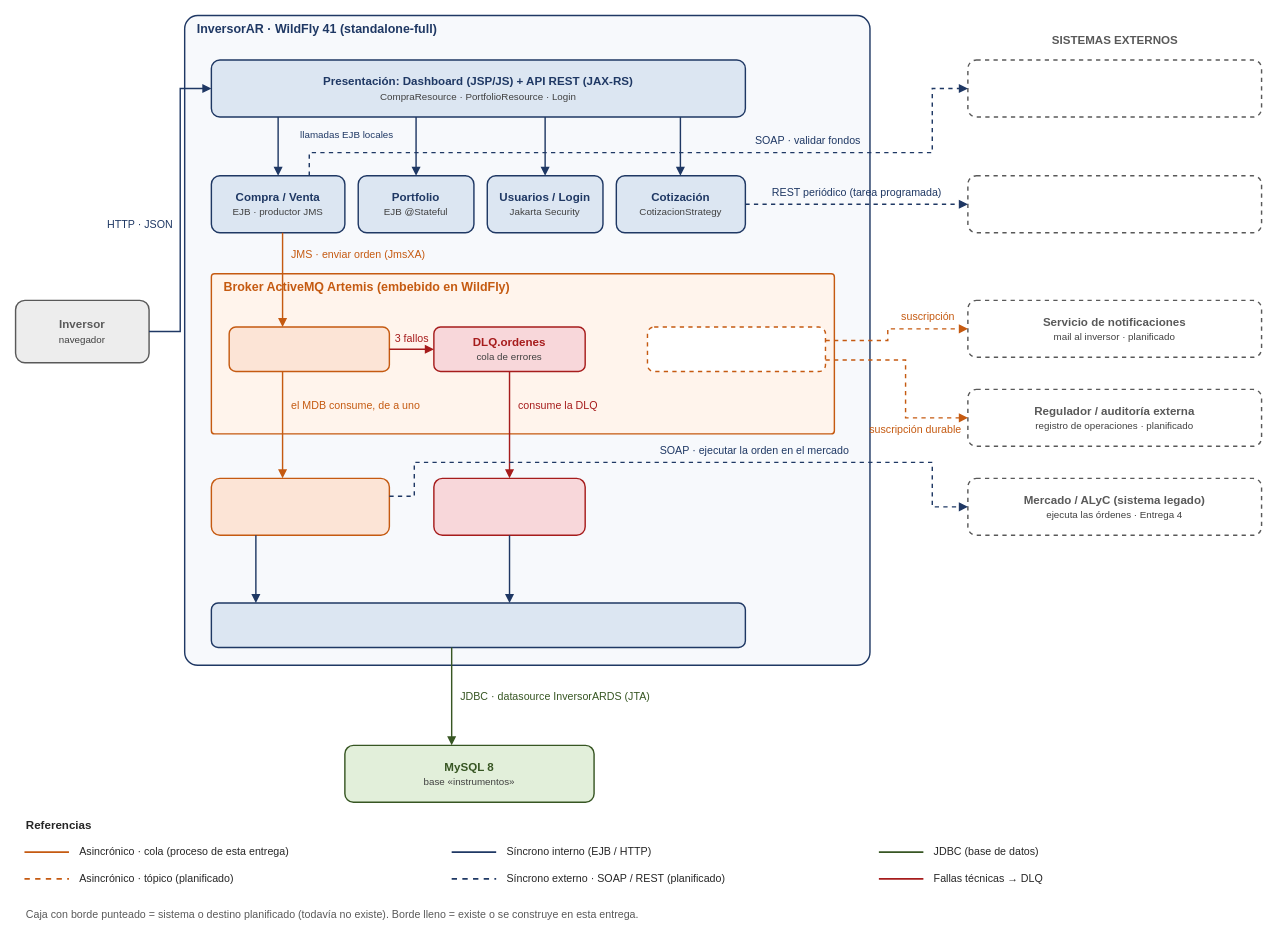
The diagram is 1286 pixels wide and 938 high, and some of its shapes have lost their labels. The shapes that lost their labels are listed below. From the top down, each one's centre as x and y in pixels, then its label:
At [1114,88]: "Banco / custodia valida fondos · planificado".
At [1114,204]: "Proveedor de cotizaciones actualización periódica · en desarrollo".
At [309,349]: "cola «ordenes» punto a punto".
At [736,349]: "tópico «operaciones» lo publica el Ejecutor".
At [300,506]: "Ejecutor de órdenes MDB · de a un mensaje".
At [509,506]: "MDB de la DLQ marca la orden ERROR".
At [478,625]: "Repositorios JPA Orden · Operacion · Portfolio · Usuario".
